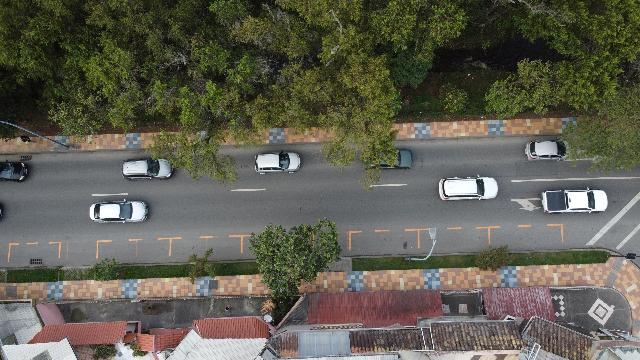Vehiculo: (540, 187, 608, 213), (438, 176, 498, 200), (89, 200, 147, 224), (121, 158, 172, 180), (254, 152, 300, 174), (364, 149, 412, 169), (526, 140, 566, 160), (0, 162, 28, 182)
